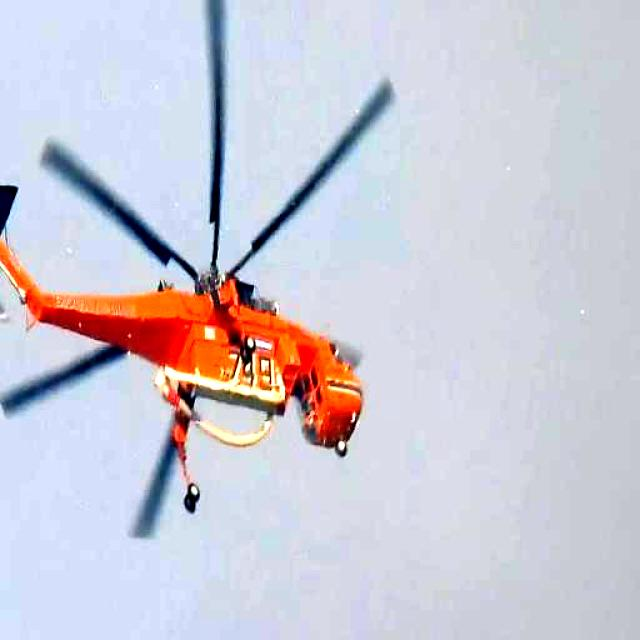drone: (0, 0, 429, 558)
